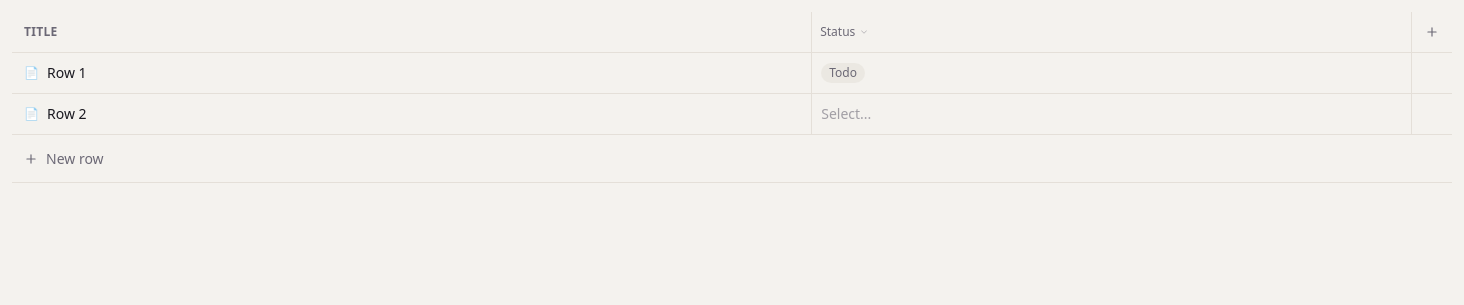
Test: DatabaseView — add property › opens the add property form when the + button is clicked
Click the button with test id "add-property-btn" at [1432, 32], box [1412, 12, 1452, 52]
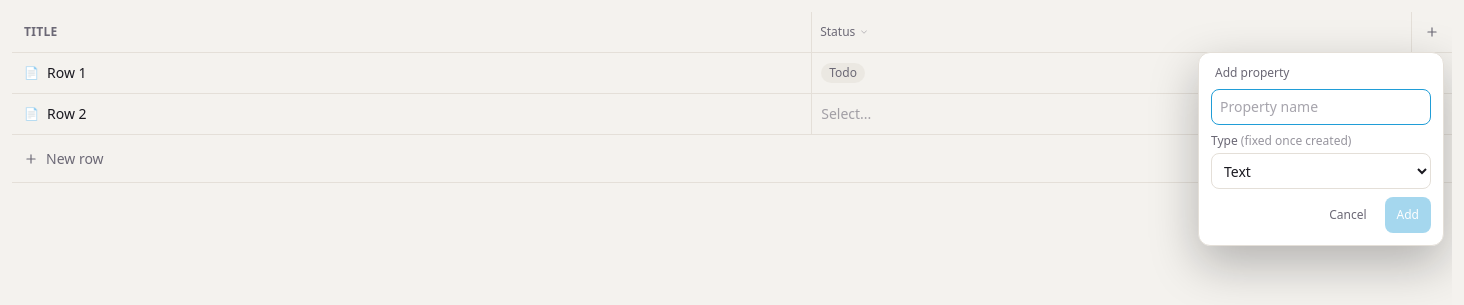
Result: the field with placeholder "Property name" is shown at [1211, 89, 1431, 125]
